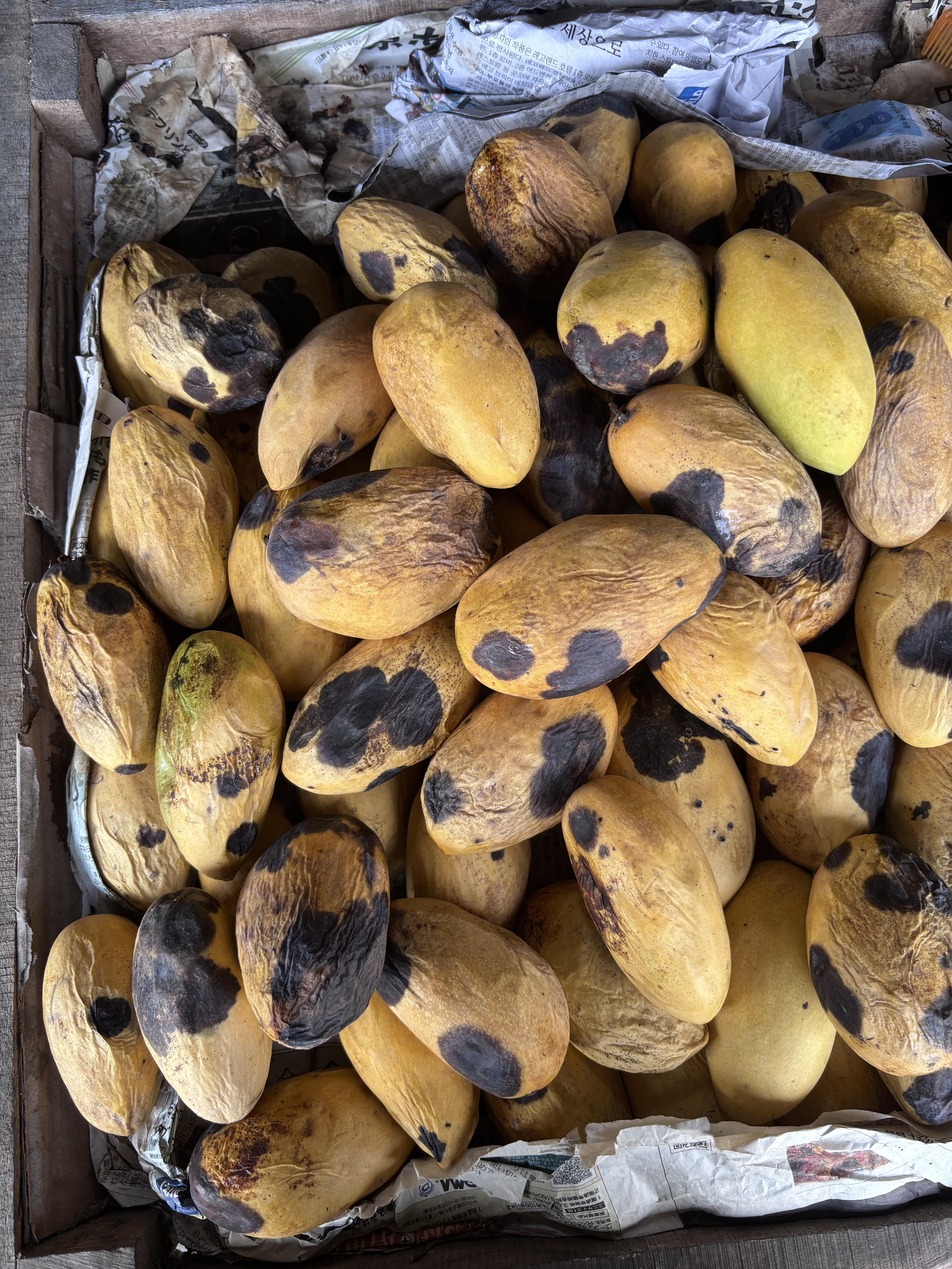mango: (455, 514, 725, 700), (562, 776, 731, 1025), (265, 467, 500, 639), (713, 229, 875, 475), (236, 816, 389, 1049), (373, 282, 540, 488), (155, 630, 285, 879), (557, 231, 711, 396), (127, 273, 283, 412)
occluded: (607, 383, 821, 577), (377, 898, 569, 1099), (190, 1069, 414, 1238), (517, 880, 708, 1073), (608, 663, 756, 905), (283, 612, 478, 794), (806, 834, 952, 1077), (707, 861, 836, 1125), (421, 685, 617, 855), (646, 572, 817, 766), (133, 888, 271, 1123), (747, 652, 894, 871), (37, 557, 170, 775), (109, 407, 238, 629), (228, 480, 356, 701), (836, 317, 952, 547), (791, 190, 952, 353), (43, 915, 161, 1136), (466, 128, 615, 300), (258, 305, 393, 491), (340, 991, 479, 1169), (518, 328, 641, 525), (855, 522, 952, 748), (755, 488, 870, 644), (334, 198, 497, 308), (405, 793, 531, 928), (87, 763, 191, 912), (100, 241, 192, 407), (298, 763, 425, 880), (484, 1046, 631, 1142), (629, 122, 736, 245), (222, 247, 337, 351), (542, 93, 640, 213), (775, 1032, 893, 1125), (884, 741, 952, 888), (722, 169, 826, 241), (622, 1048, 722, 1122), (87, 465, 134, 580), (370, 411, 455, 470), (827, 175, 928, 214)
